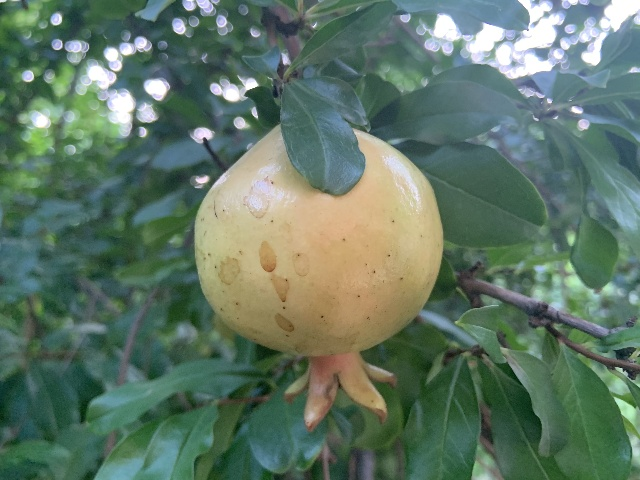mid-growth: (196, 120, 445, 438)
